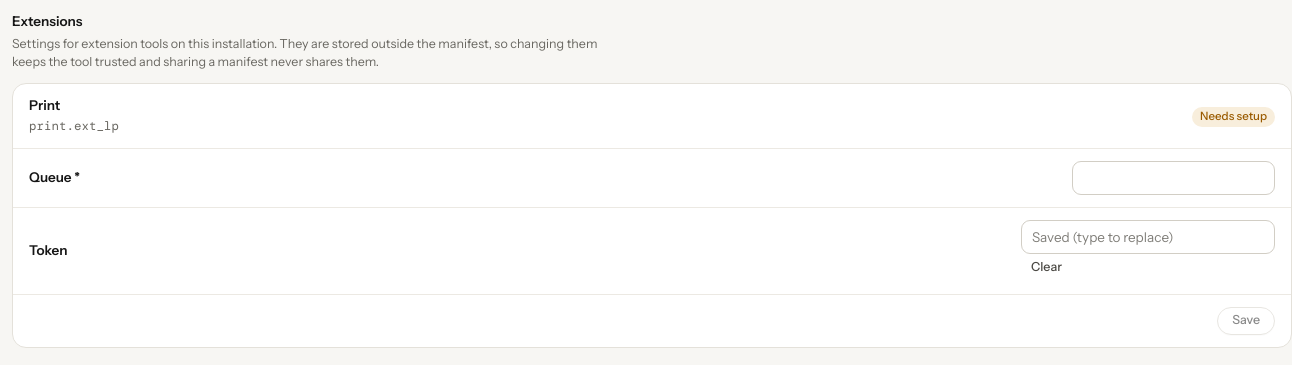
Settings → Extensions › sends only changed values and never shows a stored secret
Expected: the text "Needs setup" is shown, [1192,106,1275,126]
Expected: the password field labelled "Token" is empty, [1021,220,1275,254]
Type "office" into the field labelled "Queue *" at [1174, 178], box [1072,160,1275,194]
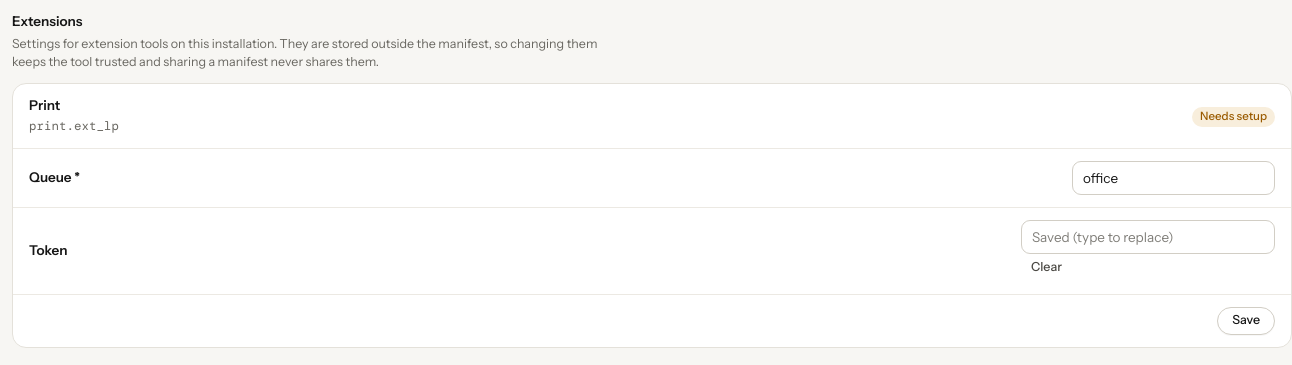
Click the button "Save" at [1246, 320], box [1217,306,1275,334]
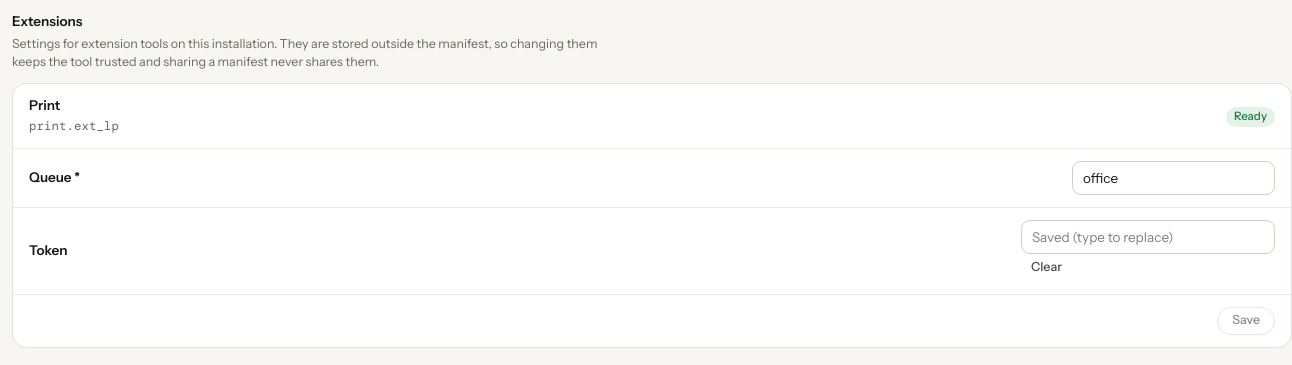
Expected: the text "Ready" is shown, [1226,106,1275,126]
